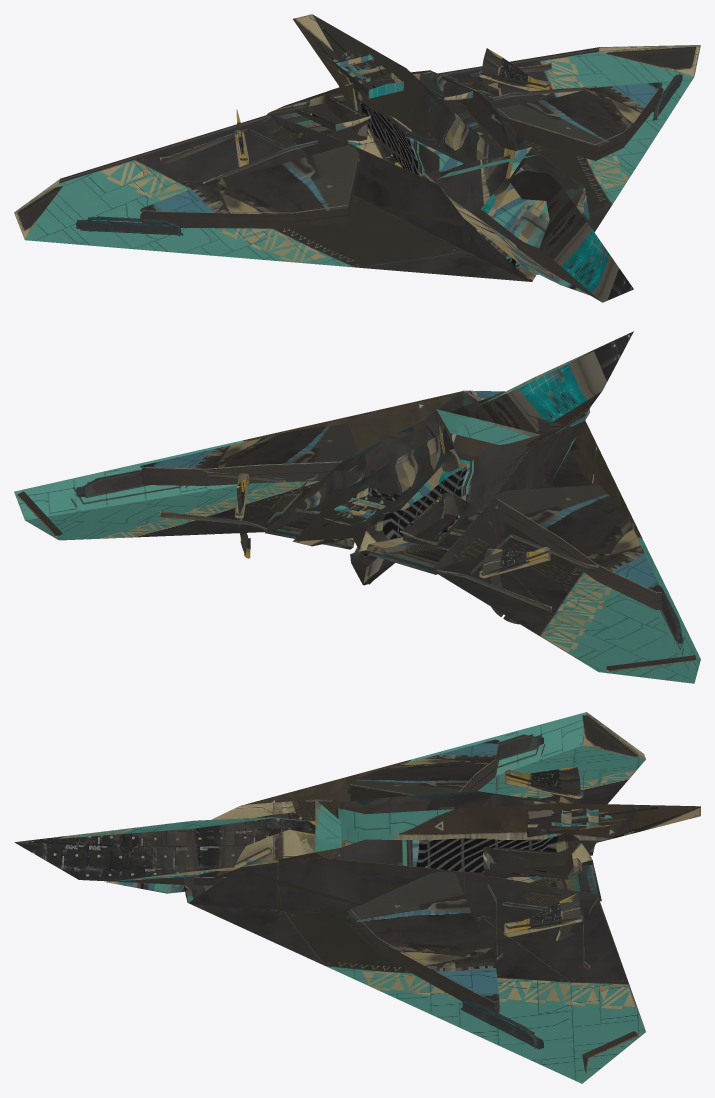
The model's file is mvb_hisshos.glb.
3 renders of one model, top to bottom at view 1: azimuth 30°, elevation 25°; view 2: azimuth 150°, elevation 25°; view 3: azimuth 270°, elevation 25°, orthographic. The views are drawn at different scales.
Parts seen in each view (by area): view 1: mvb_hisshos; view 2: mvb_hisshos; view 3: mvb_hisshos.
Boxes of the visible parts, bbox=[...] form: mvb_hisshos: bbox=[14, 14, 700, 302]; mvb_hisshos: bbox=[14, 331, 700, 683]; mvb_hisshos: bbox=[14, 712, 700, 1083].
Bounding box in the file's own units: 116 × 18.25 × 97.4.
2 materials, 2 textured.
